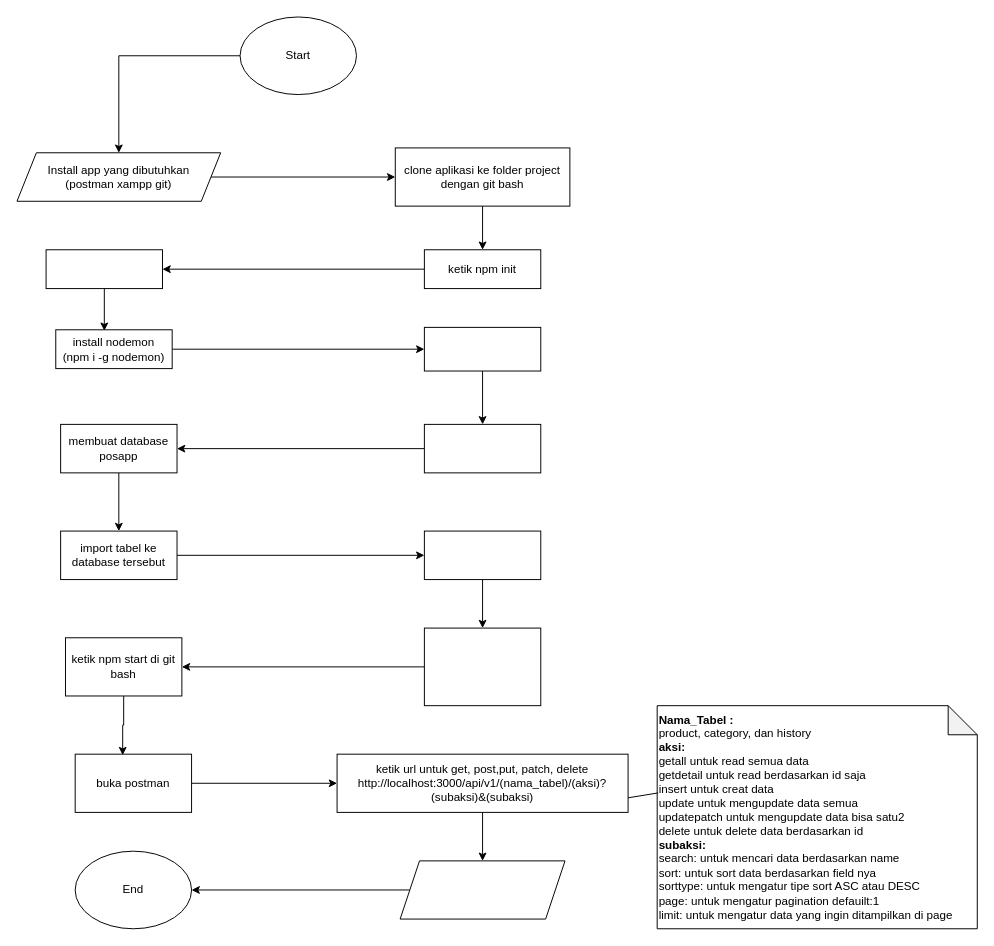
Some shapes in this 994 by 946 pixel diagram are drawn without their labels. Each missing label, with the centre of its shape:
didalam .env ketik DB_HOST=localhost DB_USER=root DB_PASS= DB_NAME=posapp: point (482, 666)
didalam folder project buat file .env: point (482, 555)
mengaktifkan apache dan mysql: point (482, 448)
menjalankan xampp: point (482, 348)
npm install: point (103, 269)
output berhasil/tertampil: point (482, 889)
